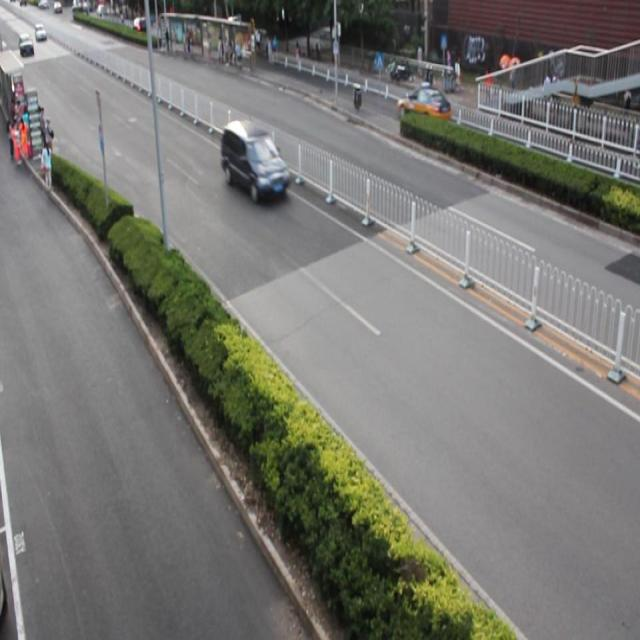car: (222, 119, 289, 201), (395, 85, 450, 127)
